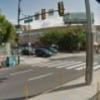traffic lights: (58, 2, 64, 16)
